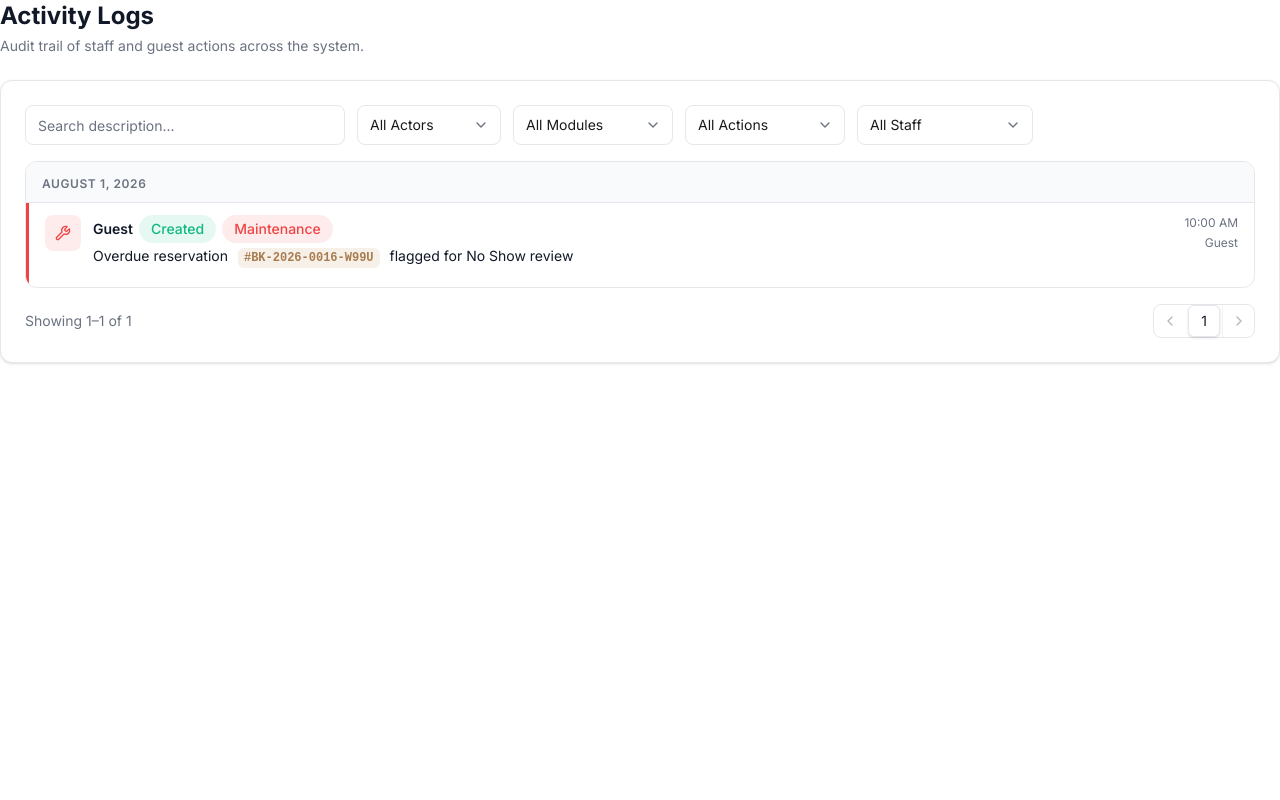
Test case: ActivityLogsPage › highlights reservation codes, ids, and currency in the description
This screenshot has width=1280, height=800.
Click the button "Overdue reservation": click(63, 233) top-left (26, 203), bottom-right (1254, 287)
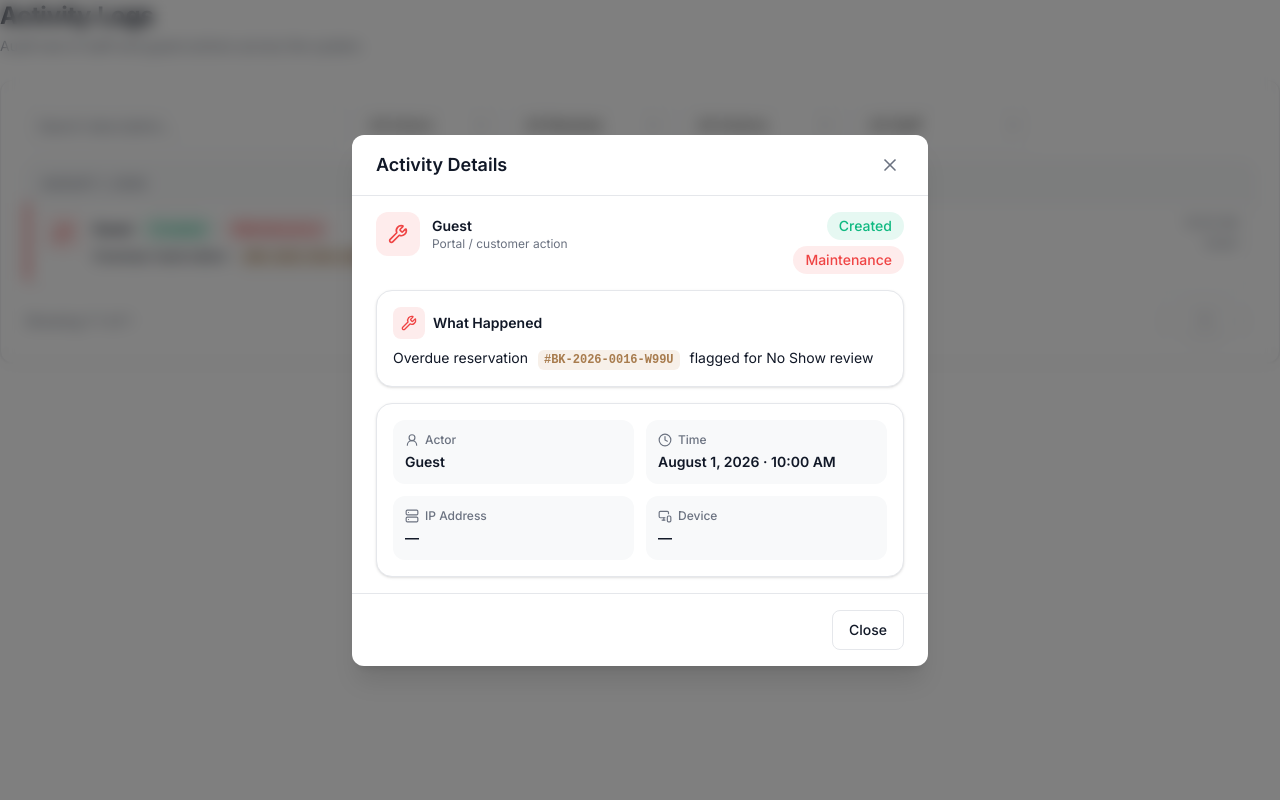
Expected: the 1st text "flagged for No Show review" is shown, top-left (386, 245), bottom-right (573, 268)
Expected: the heading "What Happened" is shown, top-left (433, 312), bottom-right (542, 332)
